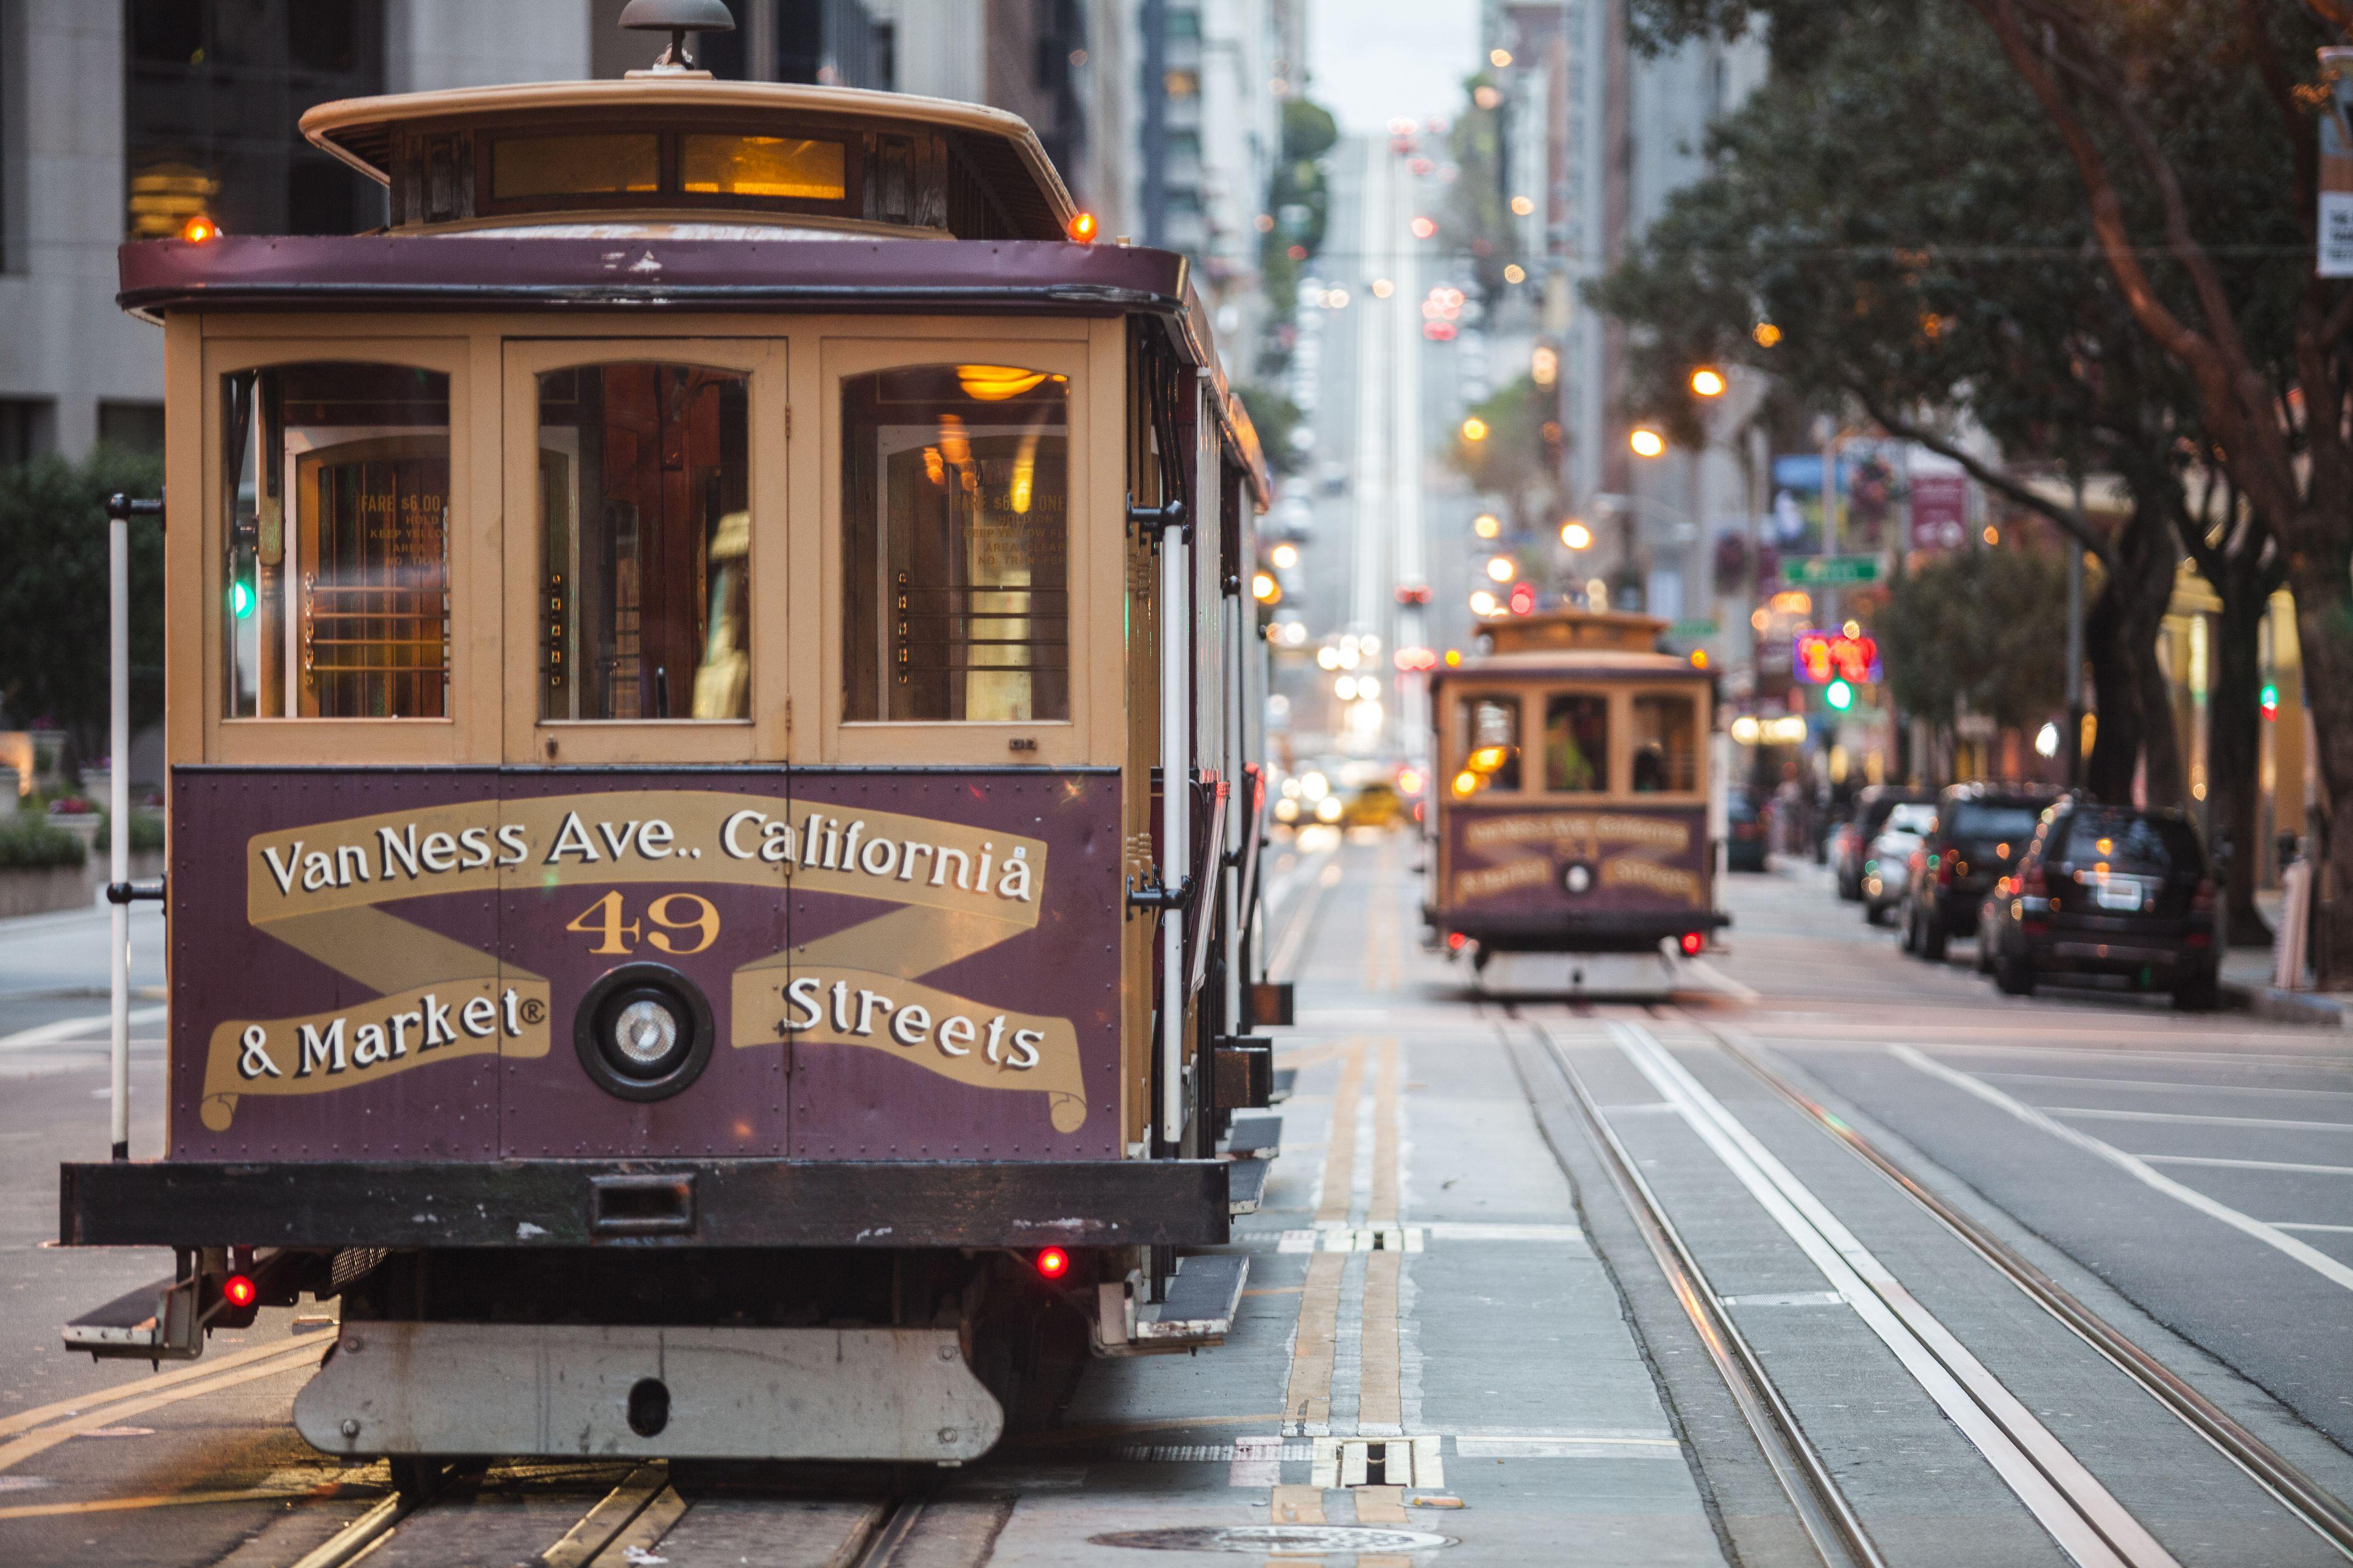Car: (1949, 793, 2294, 1057), (1812, 702, 2029, 907)
